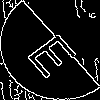E: (25, 25, 87, 80)
